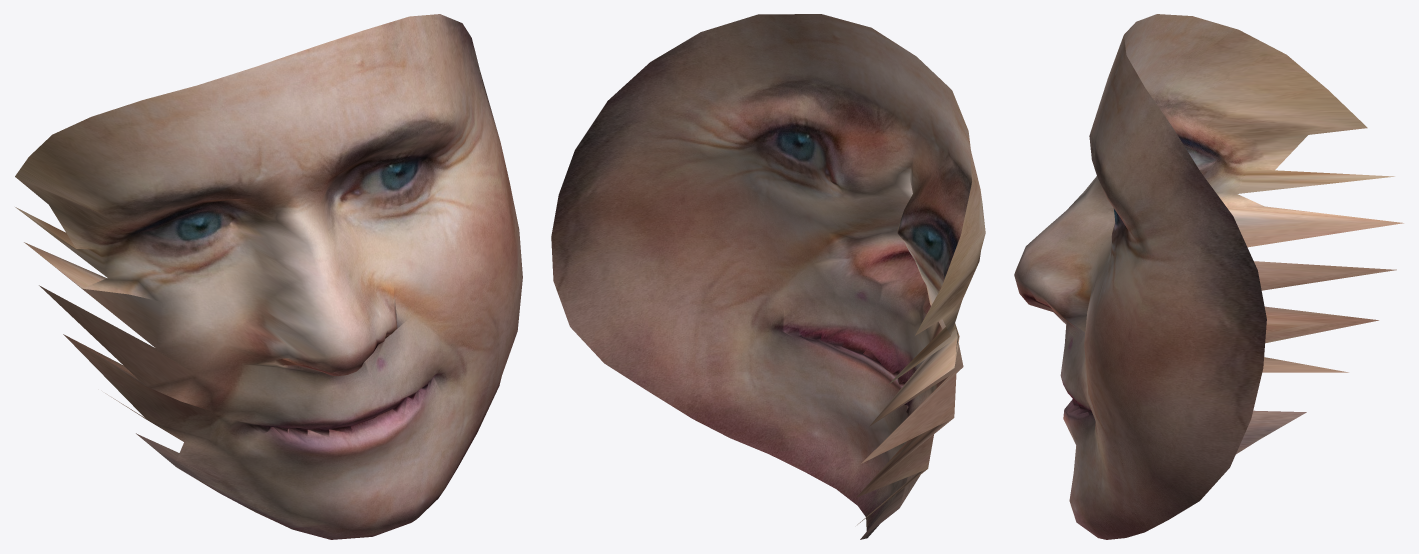
3 renders of one model, left to right at view 1: azimuth 30°, elevation 25°; view 2: azimuth 150°, elevation 25°; view 3: azimuth 270°, elevation 25°, orthographic. The views are drawn at different scales.
Visible parts, largest first — view 1: face; view 2: face; view 3: face.
Part boxes in pixels (x1,y1,x2,y2): face: (15, 14, 522, 539); face: (551, 14, 985, 539); face: (1014, 14, 1403, 539).
Bounding box in the file's own units: 0.15 × 0.1628 × 0.1209.
Materials: 1 (1 with a texture image).
